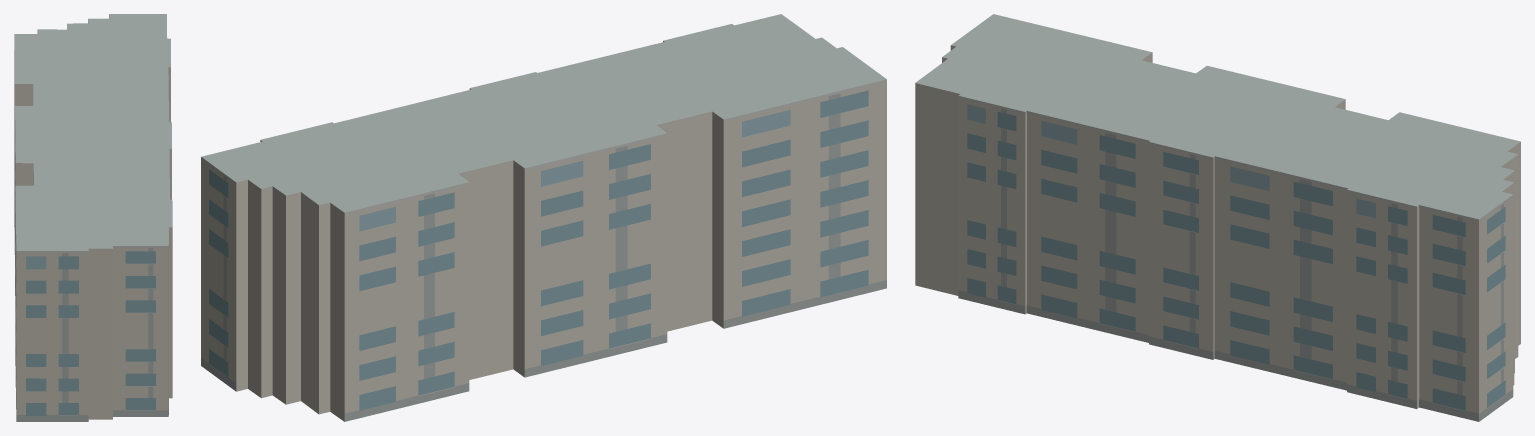
File: survey-upis-32838423.glb
3 renders of one model, left to right at view 1: azimuth 30°, elevation 25°; view 2: azimuth 150°, elevation 25°; view 3: azimuth 270°, elevation 25°, orthographic. The views are drawn at different scales.
Visible parts, largest first — view 1: survey-upis-32838423.tmp; view 2: survey-upis-32838423.tmp; view 3: survey-upis-32838423.tmp.
Boxes of the visible parts, x1=… form: survey-upis-32838423.tmp: x1=14, y1=14, x2=172, y2=421; survey-upis-32838423.tmp: x1=201, y1=14, x2=886, y2=421; survey-upis-32838423.tmp: x1=915, y1=14, x2=1520, y2=421.
Size of the model in its own units: 43.74 by 20.1 by 54.49.
